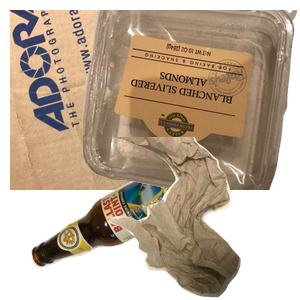cardboard: (10, 10, 250, 190)
glass: (29, 150, 238, 300)
plastic: (83, 10, 300, 190)
trash: (103, 137, 300, 300)
